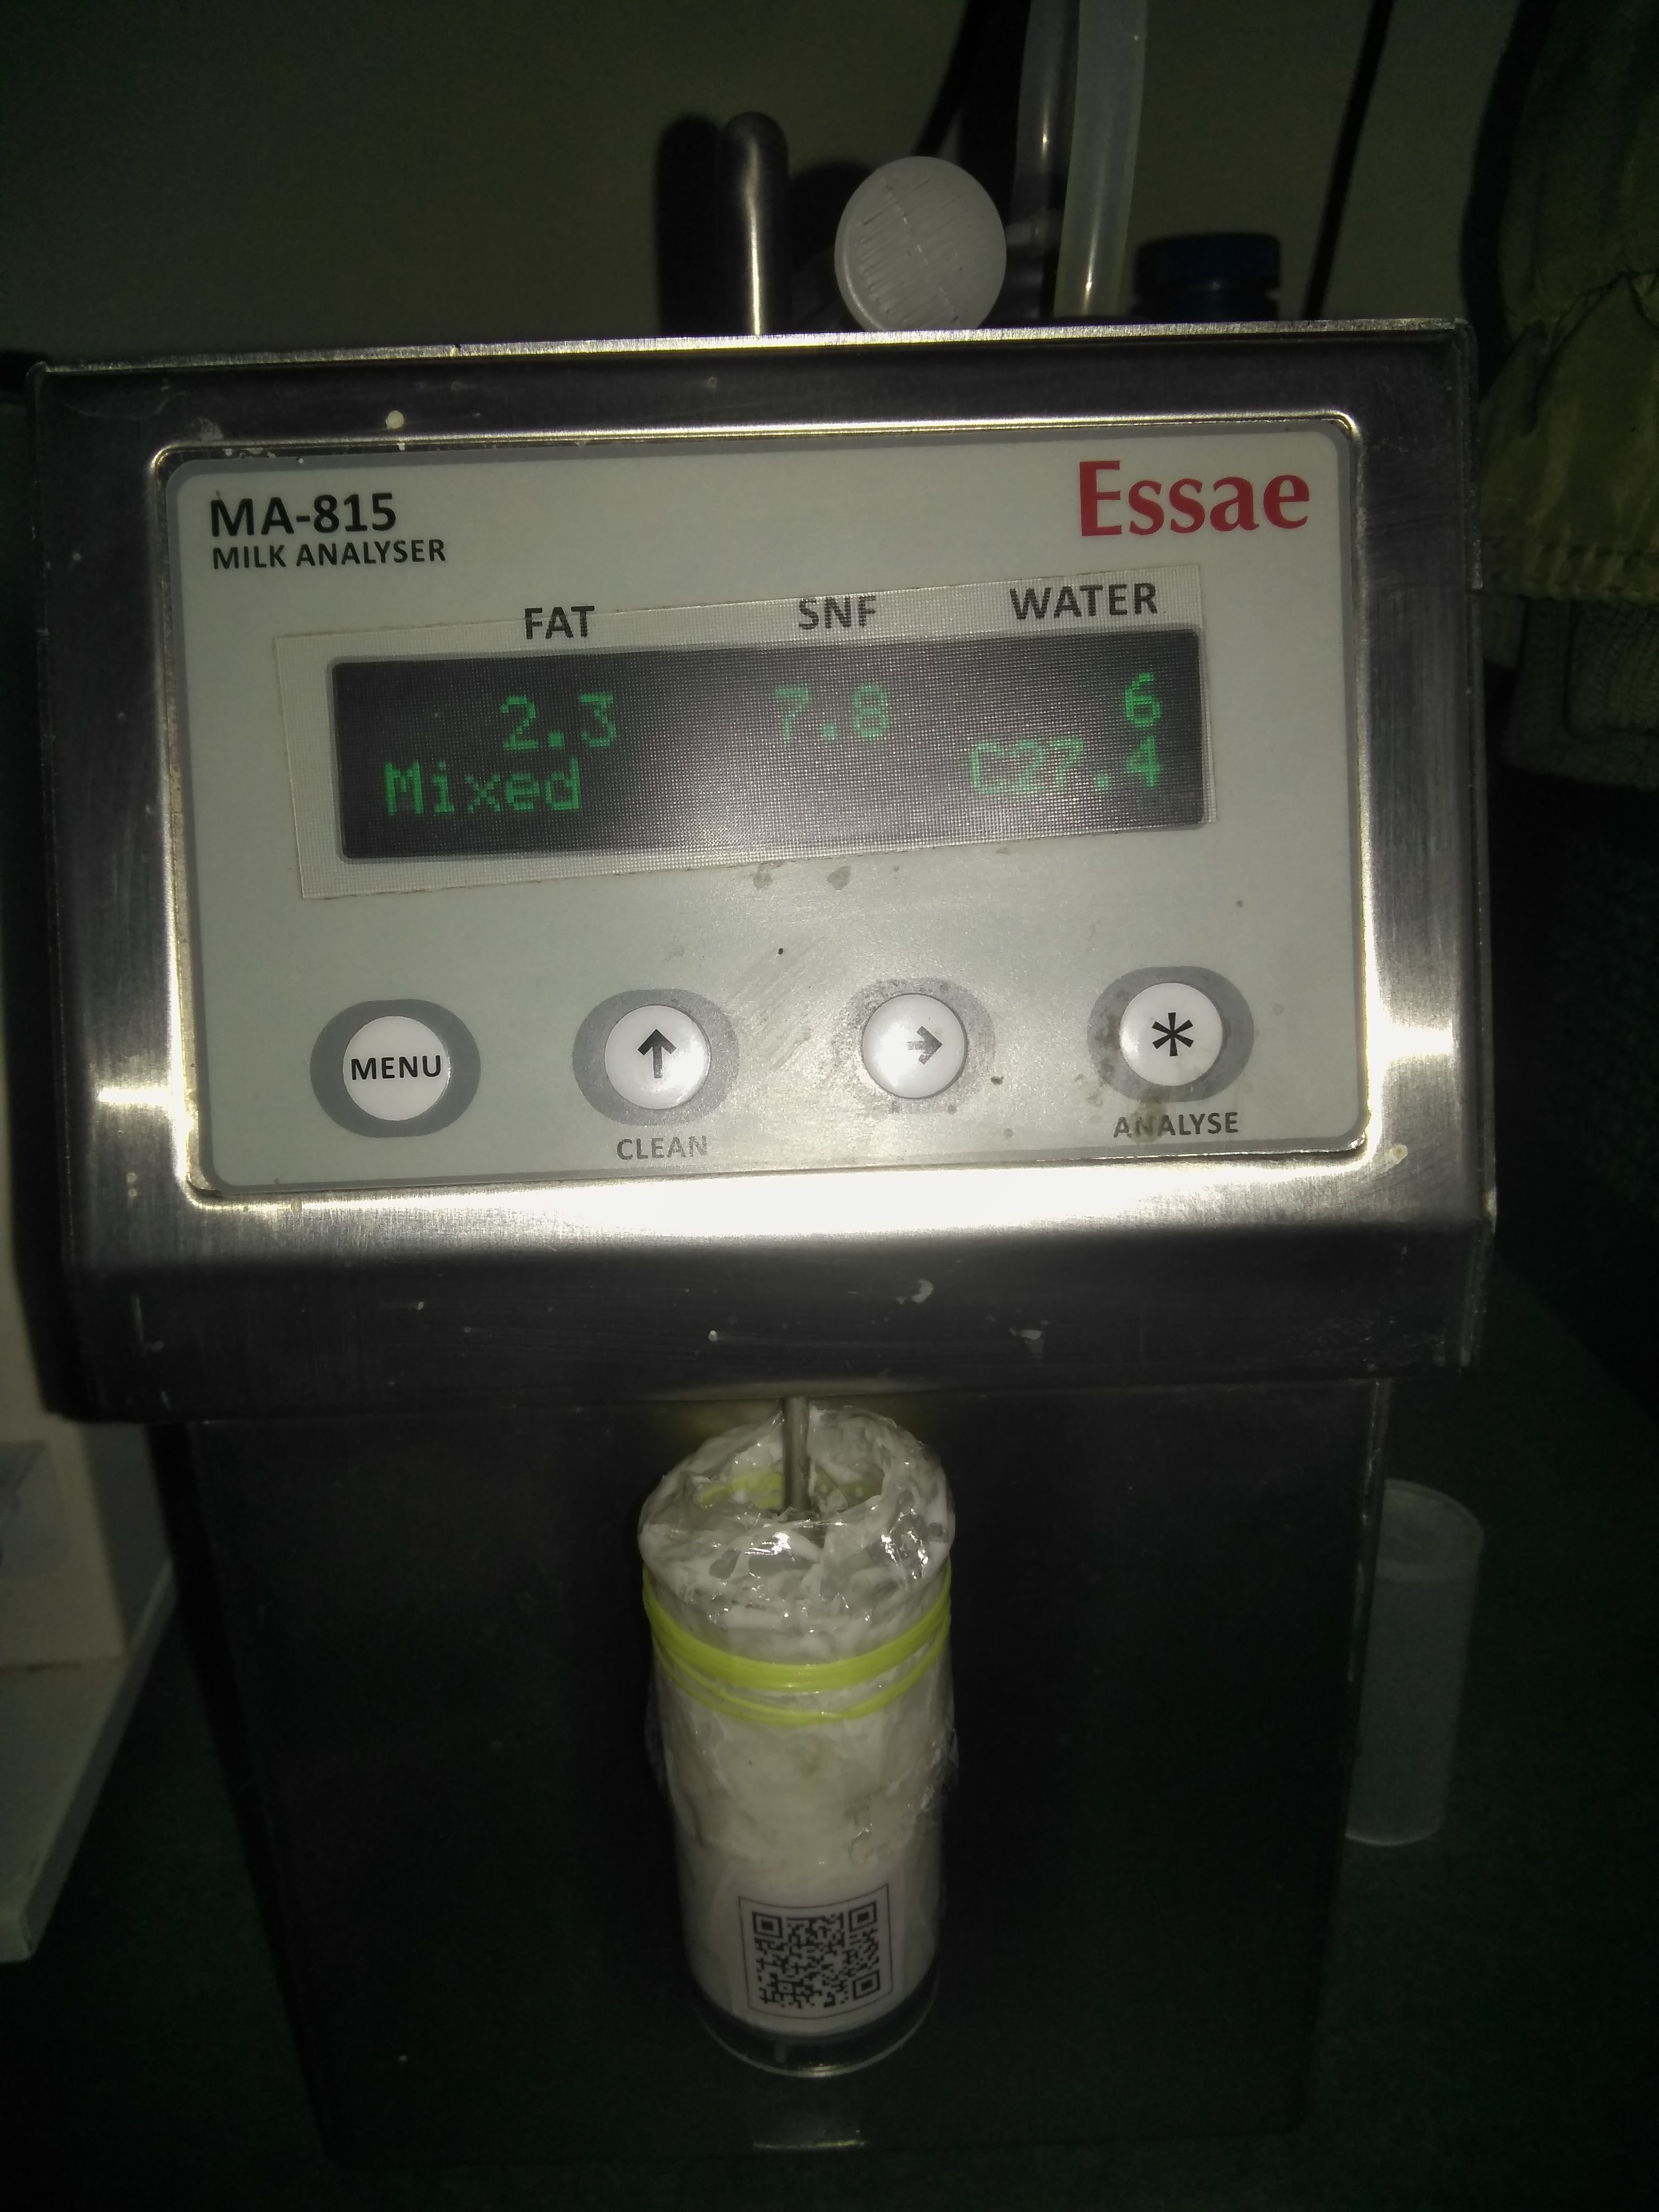lcd: (321, 599, 1229, 928)
qr: (739, 1883, 913, 2038)
